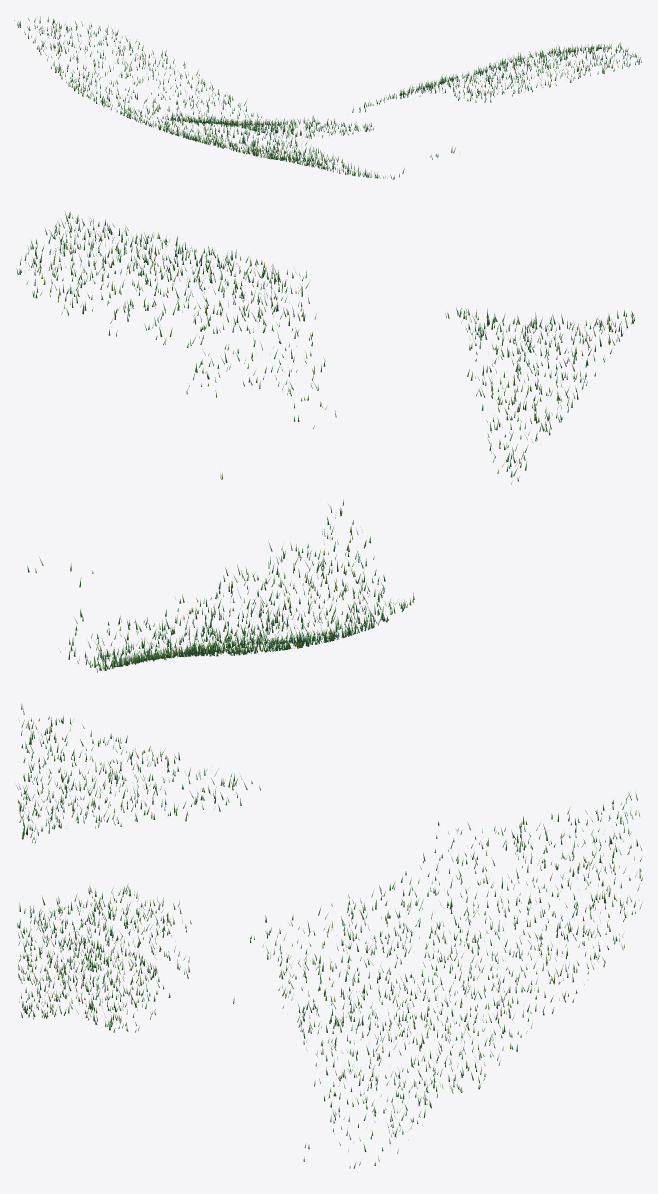
3 views of the same model, one above another, from view 1: azimuth 30°, elevation 25°; view 2: azimuth 150°, elevation 25°; view 3: azimuth 270°, elevation 25° (orthographic). The views are drawn at different scales.
Parts seen in each view (by area): view 1: gc_37; view 2: gc_37; view 3: gc_37.
Boxes of the visible parts, <box> form: gc_37: <box>14,16,641,179</box>; gc_37: <box>16,211,634,672</box>; gc_37: <box>16,703,642,1168</box>.
Bounding box in the file's own units: 18.13 × 9.44 × 18.15.
1 material, 1 textured.
